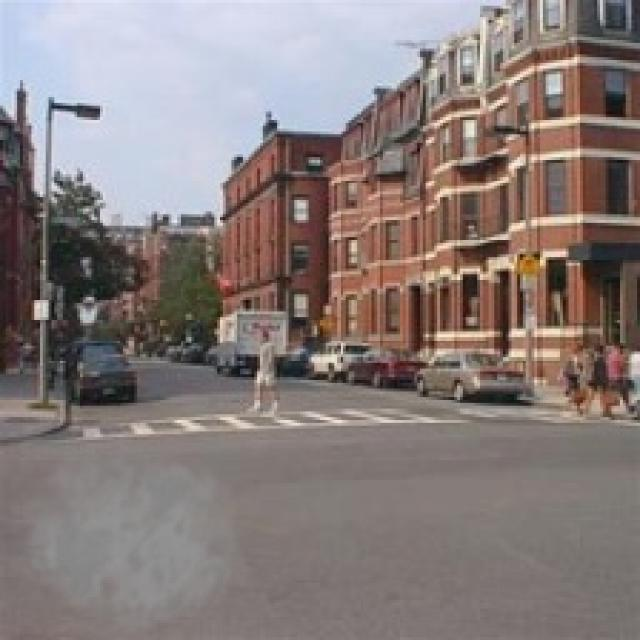smoke: (3, 426, 251, 637)
